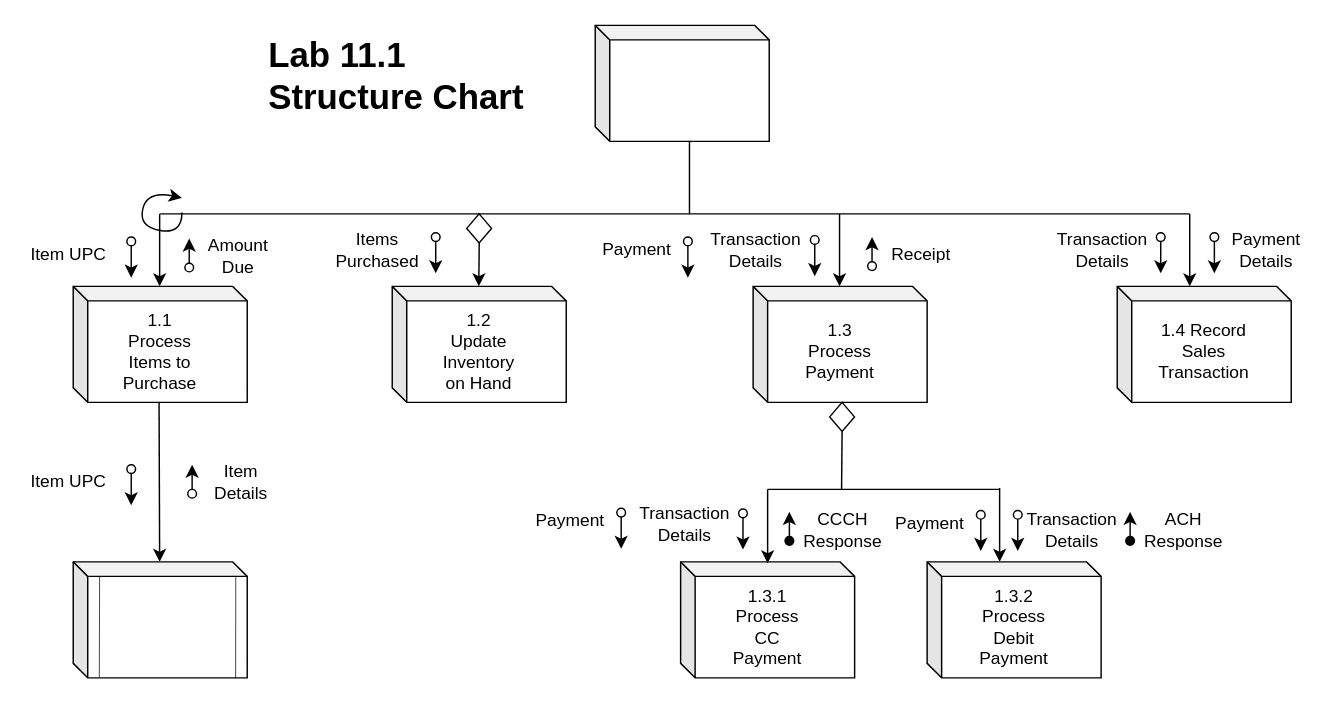
The diagram is 1334 pixels wide and 705 high, and some of its shapes have lost their labels. Each missing label, with the centre of its shape:
1.0 Checkout Process: pixel 681 82
1.1.1 Validate Item Details: pixel 159 619
